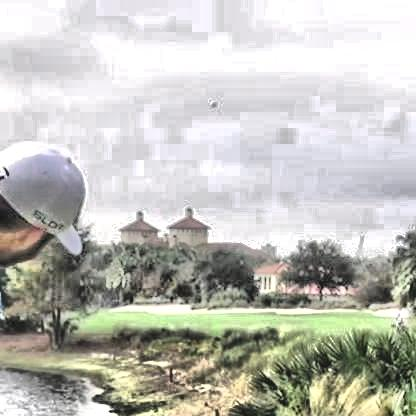golfball: (206, 99, 213, 106)
